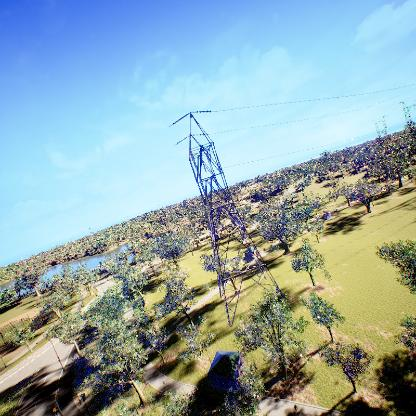tower: (165, 106, 293, 317)
